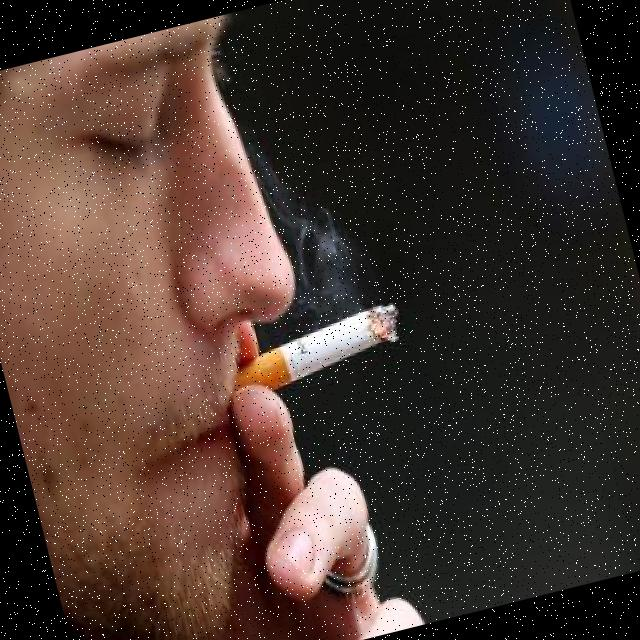fire: (354, 286, 412, 356)
